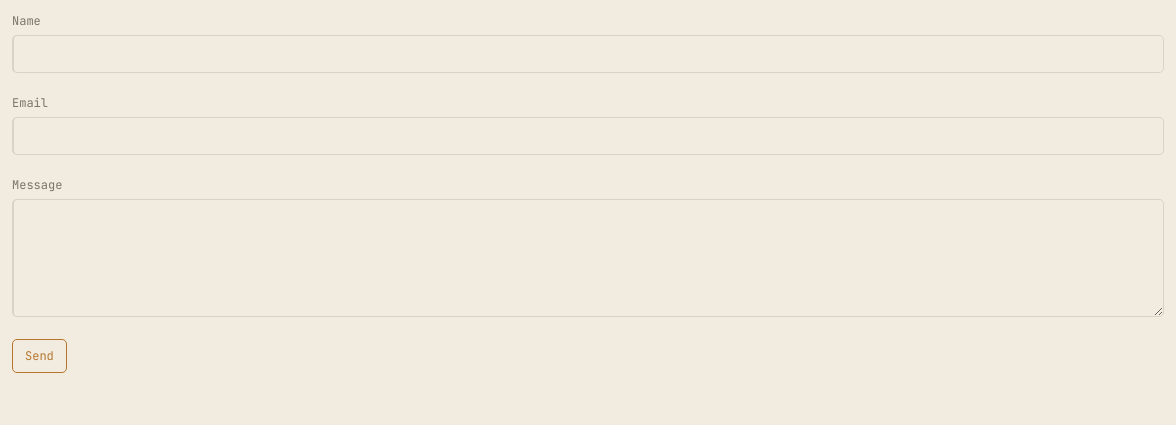
Test case: ContactForm › keeps what was typed when the action reports an error
The width and height of the screenshot is (1176, 425).
Type "Hi there" into the text box labelled "Message" at {"x": 588, "y": 258}, box 12,199 -> 1164,317
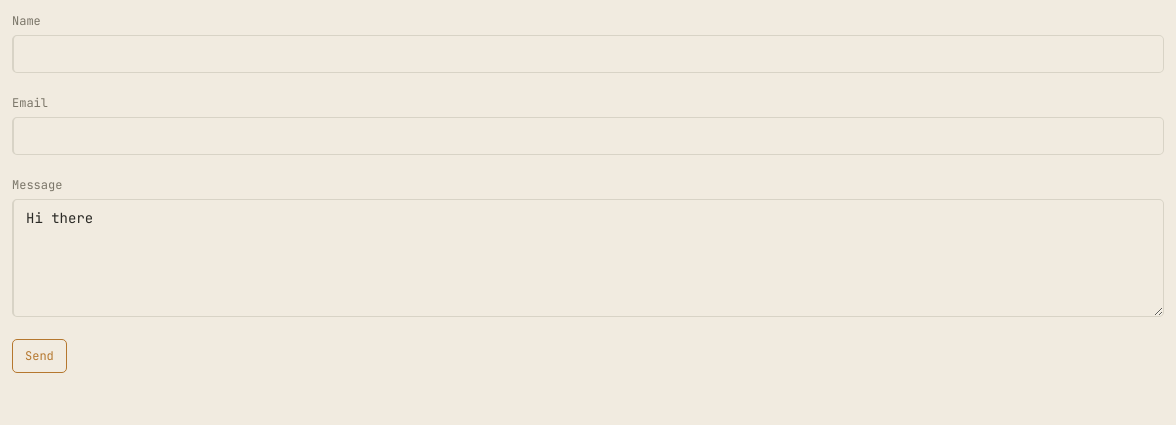
Click the button "Send" at {"x": 39, "y": 356}, box 12,339 -> 67,373
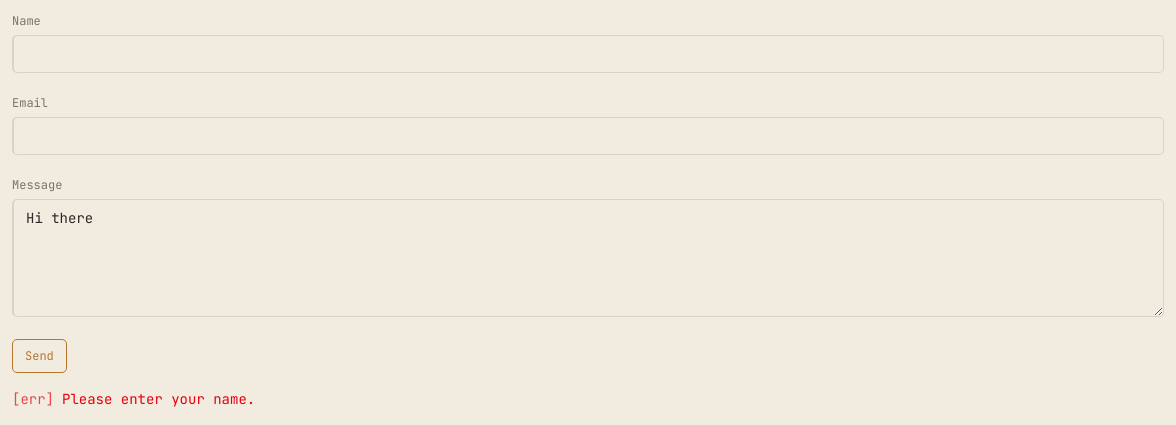
Result: the text "Please enter your name." is shown at 62,390 -> 255,408
